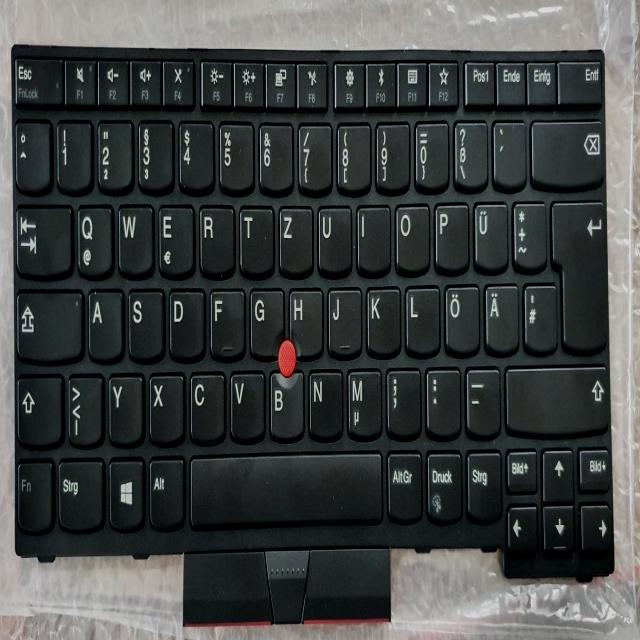0: (412, 117, 448, 189)
1: (55, 116, 91, 190)
2: (95, 117, 132, 189)
3: (136, 117, 173, 190)
4: (177, 117, 213, 190)
5: (217, 118, 253, 190)
6: (257, 118, 293, 191)
7: (297, 119, 331, 191)
8: (334, 119, 370, 191)
9: (373, 118, 409, 190)
a: (87, 285, 123, 359)
accent: (491, 116, 525, 186)
ae: (483, 280, 519, 352)
alt-left: (147, 453, 183, 527)
altgr-right: (385, 447, 421, 520)
b: (267, 367, 303, 439)
c: (188, 369, 225, 441)
caret: (14, 114, 50, 189)
comma: (384, 364, 420, 436)
d: (168, 285, 204, 359)
del: (529, 115, 603, 187)
e: (157, 201, 193, 276)
enter: (549, 195, 607, 353)
f: (208, 285, 244, 357)
g: (248, 284, 282, 356)
h: (287, 285, 323, 355)
hash: (521, 279, 555, 349)
i: (355, 202, 389, 272)
j: (326, 283, 360, 355)
k: (365, 283, 400, 355)
keyboard: (9, 43, 613, 570)
l: (403, 282, 439, 354)
less: (67, 370, 103, 444)
m: (345, 365, 381, 437)
minus: (464, 363, 500, 435)
n: (306, 366, 342, 438)
o: (393, 200, 429, 272)
oe: (443, 281, 479, 354)
p: (432, 199, 468, 271)
plus: (511, 196, 545, 268)
point: (424, 363, 460, 435)
q: (75, 202, 112, 277)
r: (198, 202, 234, 276)
s: (127, 285, 163, 360)
shift-left: (15, 369, 62, 445)
shift-lock: (15, 284, 83, 360)
shift-right: (503, 360, 609, 433)
space: (187, 447, 383, 525)
ss: (451, 117, 487, 187)
strg-left: (56, 455, 104, 530)
strg-right: (464, 446, 501, 521)
t: (238, 202, 274, 274)
tab: (14, 201, 72, 276)
u: (316, 202, 350, 275)
ue: (472, 198, 508, 271)
v: (228, 367, 264, 440)
w: (116, 199, 152, 274)
x: (148, 369, 184, 442)
y: (107, 370, 143, 444)
z: (277, 203, 312, 275)
